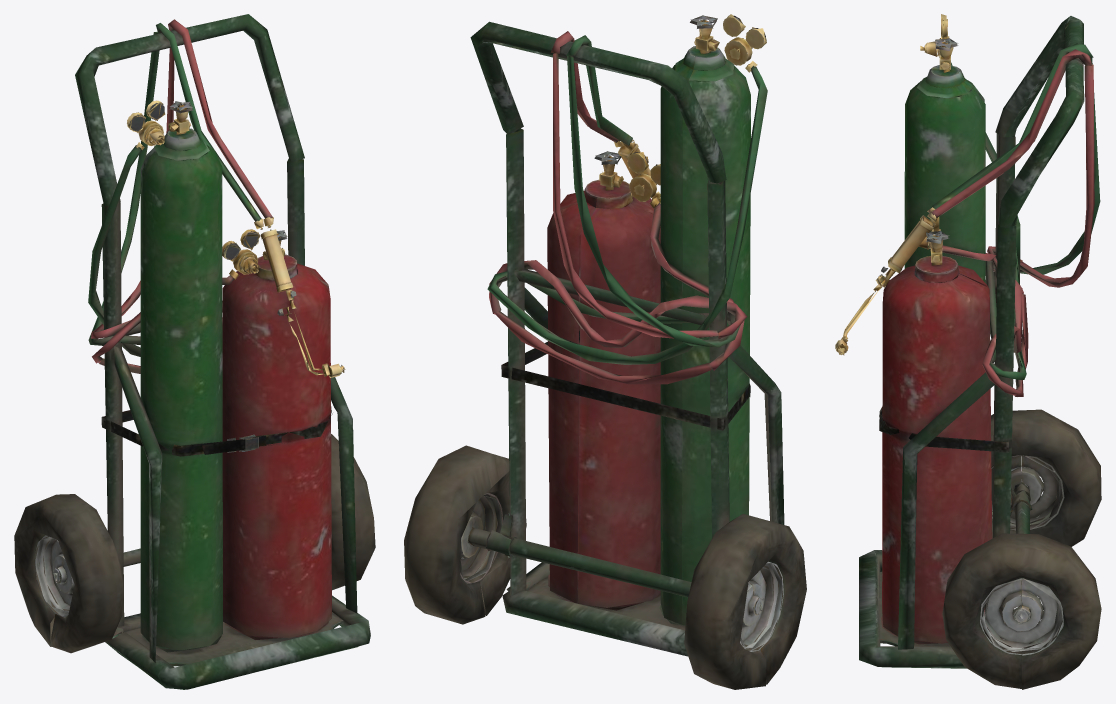
The model's file is portable_welding_cart.glb.
The picture shows the model from 3 angles, left to right: view 1: azimuth 30°, elevation 25°; view 2: azimuth 150°, elevation 25°; view 3: azimuth 270°, elevation 25°; orthographic projection. The views are drawn at different scales.
Visible parts, largest first — view 1: CC0_portable_welding_cart; view 2: CC0_portable_welding_cart; view 3: CC0_portable_welding_cart.
Boxes of the visible parts, <box> form: CC0_portable_welding_cart: <box>14,14,375,689</box>; CC0_portable_welding_cart: <box>404,14,806,689</box>; CC0_portable_welding_cart: <box>835,14,1101,689</box>.
Size of the model in its own units: 0.8374 by 1.56 by 0.6552.
2 materials, 2 textured.
